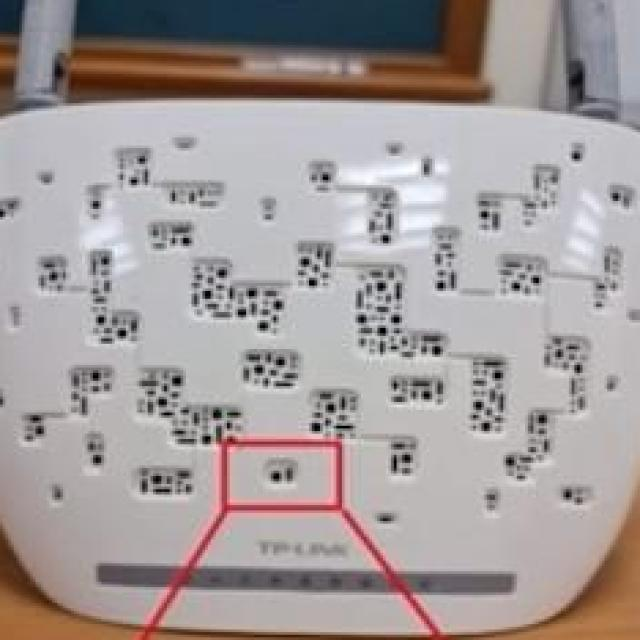hidden camera: (270, 471, 284, 484)
